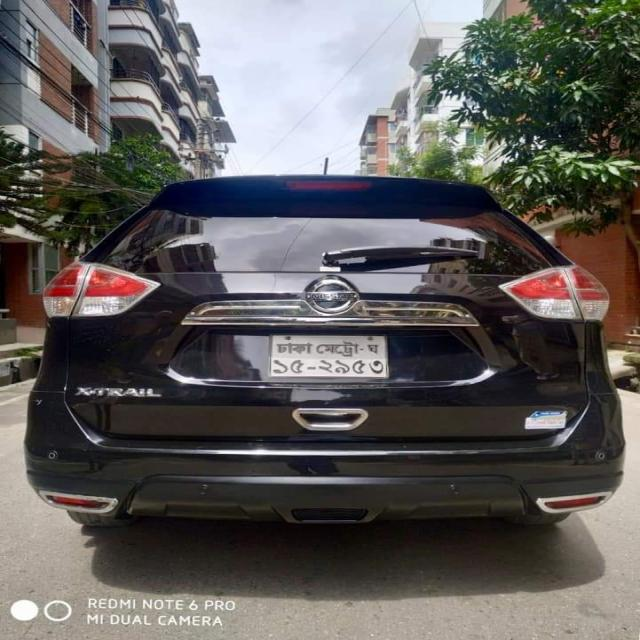black: (24, 175, 627, 530)
